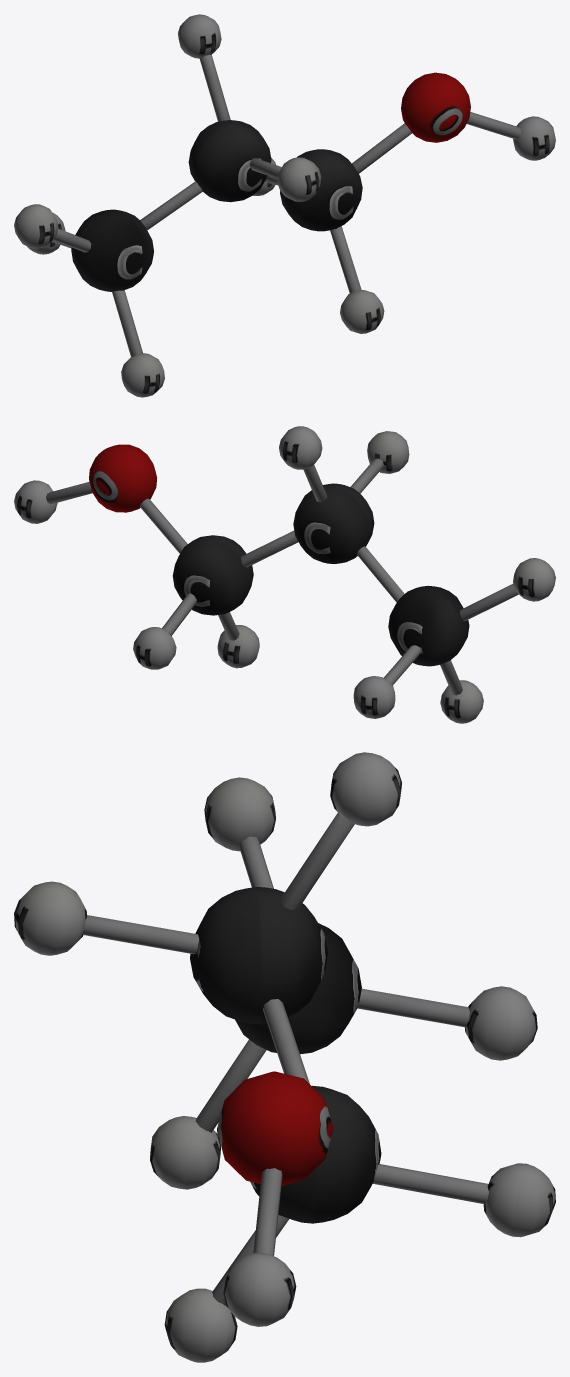
Rendered from Propanol.gltf.
3 renders of one model, top to bottom at view 1: azimuth 30°, elevation 25°; view 2: azimuth 150°, elevation 25°; view 3: azimuth 270°, elevation 25°, orthographic. The views are drawn at different scales.
Visible parts, largest first — view 1: C_Atom_35, C_Atom_22, C_Atom_37, O_Atom_04, H_Atom_63, H_Atom_40, H_Atom_61, H_Atom_85, H_Atom_82, H_Atom_0116, Bond_72, Bond_054 (+5 smaller); view 2: C_Atom_22, C_Atom_37, C_Atom_35, O_Atom_04, H_Atom_82, H_Atom_40, H_Atom_38, H_Atom_84, H_Atom_0116, H_Atom_63, H_Atom_61, H_Atom_85 (+10 smaller); view 3: C_Atom_22, O_Atom_04, C_Atom_37, C_Atom_35, H_Atom_0116, H_Atom_82, H_Atom_63, H_Atom_84, H_Atom_38, H_Atom_61, H_Atom_85, H_Atom_40 (+8 smaller).
Boxes of the visible parts, x1,y1,x2,y2 form: C_Atom_35: (71,209,153,291); C_Atom_22: (188,120,271,202); C_Atom_37: (280,149,362,231); O_Atom_04: (401,72,470,142); H_Atom_63: (277,157,321,201); H_Atom_40: (14,204,58,248); H_Atom_61: (121,353,164,397); H_Atom_85: (340,290,384,333); H_Atom_82: (178,14,221,58); H_Atom_0116: (513,116,555,160); Bond_72: (140,181,202,230); Bond_054: (199,54,230,121); C_Atom_22: (293,483,374,563); C_Atom_37: (172,535,253,615); C_Atom_35: (388,585,469,666); O_Atom_04: (89,444,156,512); H_Atom_82: (279,426,322,469); H_Atom_40: (513,558,555,601); H_Atom_38: (353,676,395,718); H_Atom_84: (133,627,176,669); H_Atom_0116: (14,480,57,523); H_Atom_63: (367,431,409,473); H_Atom_61: (440,680,483,723); H_Atom_85: (217,625,259,668); C_Atom_22: (190,887,327,1024); O_Atom_04: (217,1071,332,1186); C_Atom_37: (250,1085,381,1223); C_Atom_35: (235,923,361,1054); H_Atom_0116: (223,1252,296,1326); H_Atom_82: (330,752,401,826); H_Atom_63: (14,881,86,955); H_Atom_84: (483,1163,555,1237); H_Atom_38: (465,986,537,1060); H_Atom_61: (150,1116,220,1189); H_Atom_85: (164,1288,237,1362); H_Atom_40: (204,777,275,851).
Size of the model in its own units: 3.37 by 1.85 by 1.75.
Materials: 1 (1 with a texture image).
